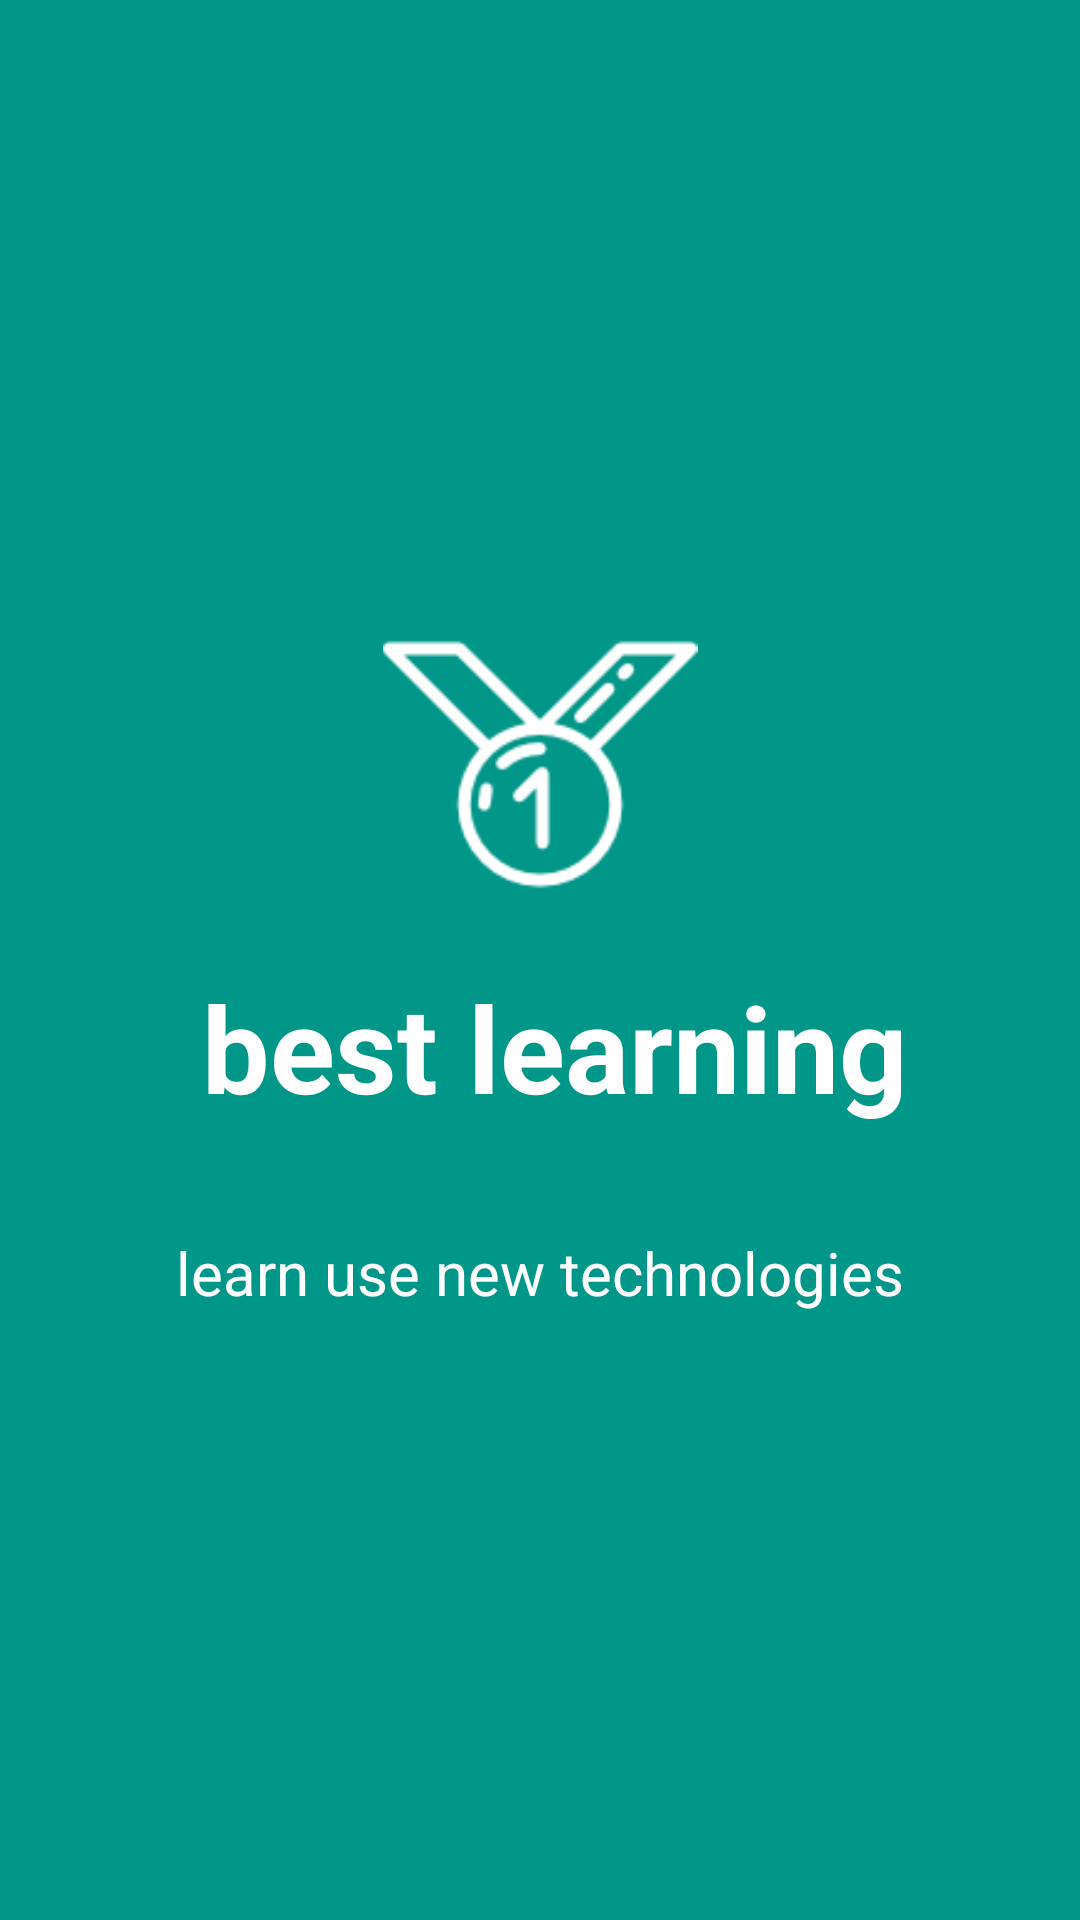

Named icons in this screenshot (1080 × 1920) and their bounding boxes, (x1, y1, x2, y2):
medal: (383, 641, 698, 888)
